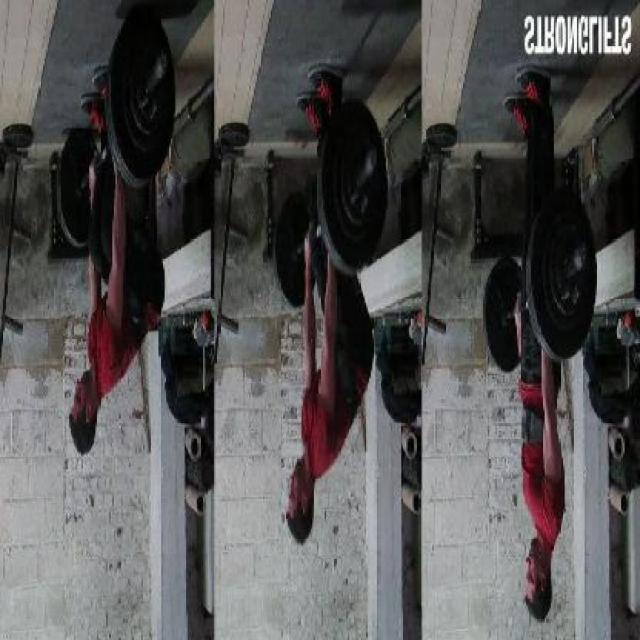Barbell: (366, 136, 382, 178), (156, 43, 170, 85), (576, 234, 590, 274)
